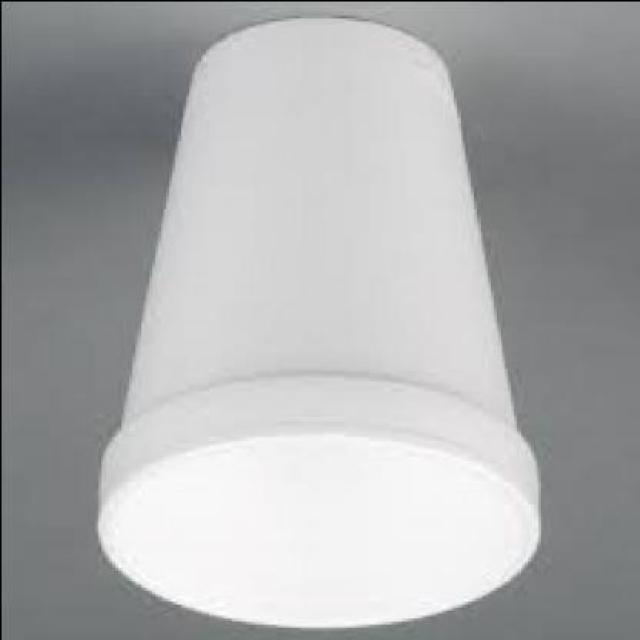PAPER: (97, 17, 540, 632)
